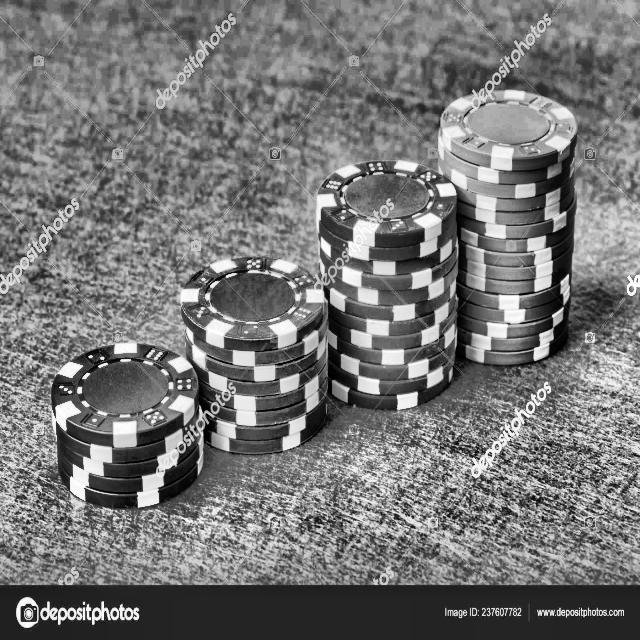Chip: (431, 84, 587, 378), (305, 147, 465, 423), (174, 241, 339, 464), (42, 334, 211, 520)
